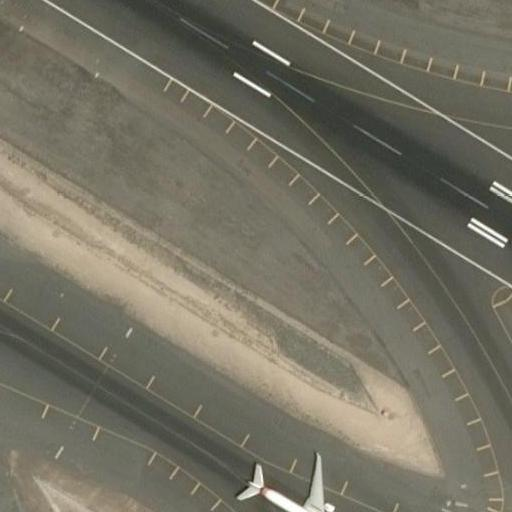Aircraft: (228, 459, 371, 512)
